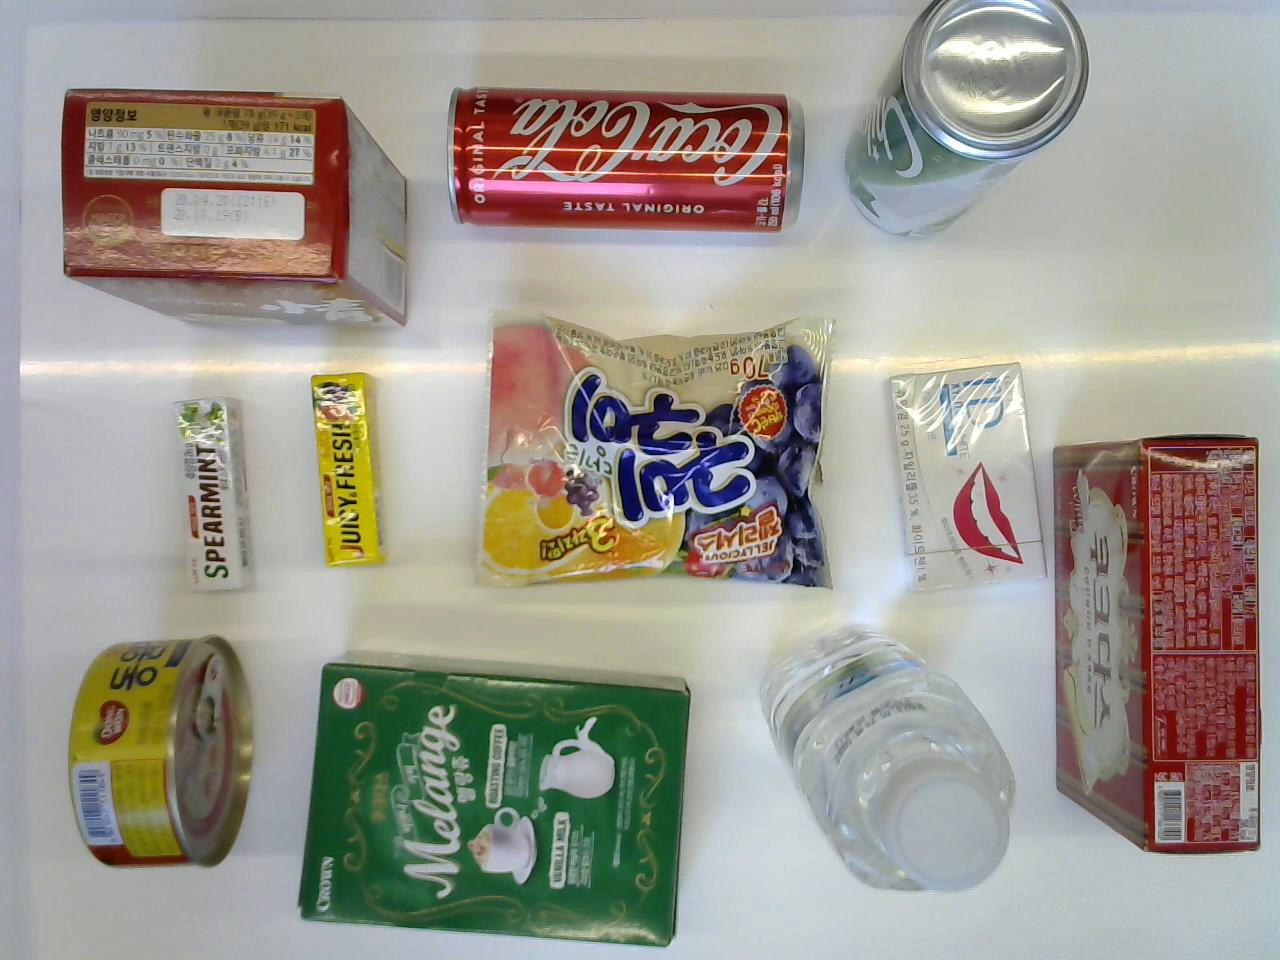ID_gum: (876, 351, 1050, 604)
chocopie: (52, 78, 411, 329)
cidar: (836, 0, 1091, 249)
coke: (445, 73, 816, 240)
couque_coffee: (297, 652, 688, 950)
couque_white: (1041, 418, 1271, 870)
gumi_gumi: (468, 298, 856, 597)
juicyfresh: (303, 367, 403, 569)
samdasu: (750, 620, 1020, 917)
spearmint: (172, 389, 260, 595)
tuna: (65, 628, 257, 873)
